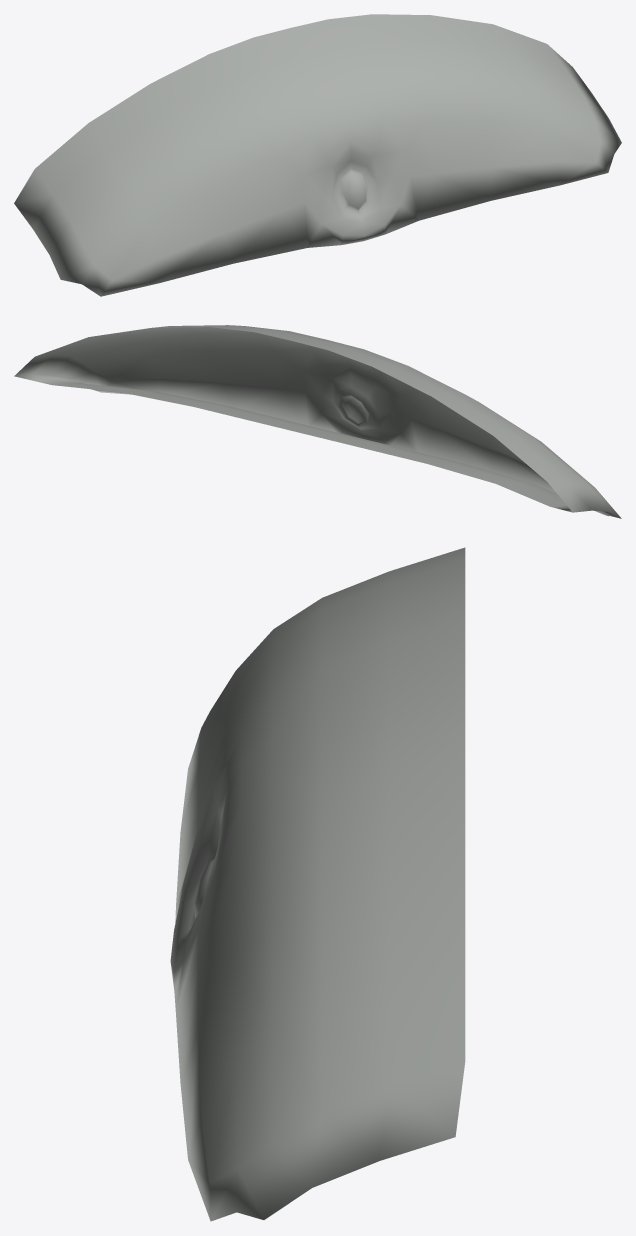
The model's file is WrenchMask_Part4.obj.
3 views of the same model, one above another, from view 1: azimuth 30°, elevation 25°; view 2: azimuth 150°, elevation 25°; view 3: azimuth 270°, elevation 25° (orthographic). The views are drawn at different scales.
Visible parts, largest first — view 1: wrenchmaskf_wrenchmask_ref.004; view 2: wrenchmaskf_wrenchmask_ref.004; view 3: wrenchmaskf_wrenchmask_ref.004.
Boxes of the visible parts, bbox=[...] form: wrenchmaskf_wrenchmask_ref.004: bbox=[14, 14, 621, 296]; wrenchmaskf_wrenchmask_ref.004: bbox=[14, 325, 621, 518]; wrenchmaskf_wrenchmask_ref.004: bbox=[170, 547, 465, 1221].
Bounding box in the file's own units: 2.61 × 0.7119 × 0.5932.
